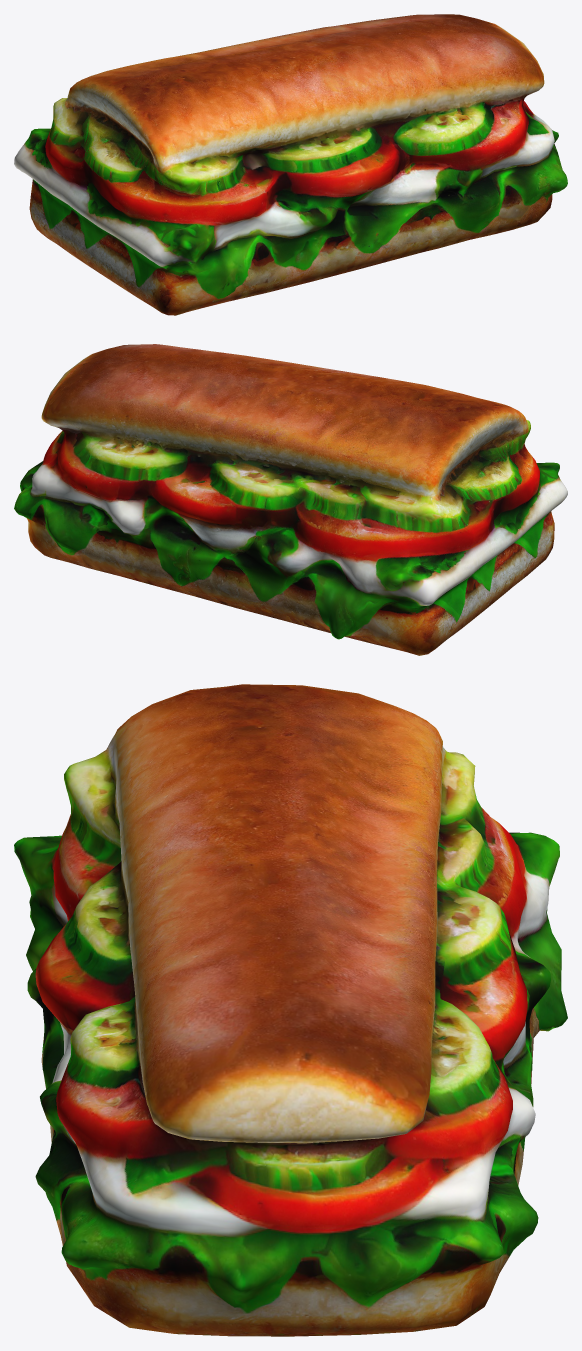
The model's file is sandwhich.glb.
3 renders of one model, top to bottom at view 1: azimuth 30°, elevation 25°; view 2: azimuth 150°, elevation 25°; view 3: azimuth 270°, elevation 25°, orthographic. The views are drawn at different scales.
Visible parts, largest first — view 1: Sandwich; view 2: Sandwich; view 3: Sandwich.
Part boxes in pixels (box(x1,y1,x2,y2)): Sandwich: box(14, 14, 567, 315); Sandwich: box(14, 344, 567, 655); Sandwich: box(14, 684, 567, 1336).
Bounding box in the file's own units: 0.1836 × 0.0723 × 0.1088.
1 material, 1 textured.
